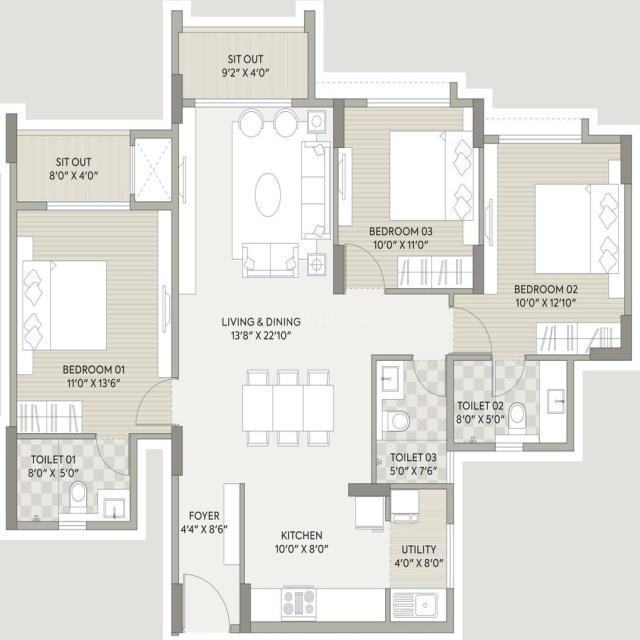Bedroom: (478, 138, 631, 363), (334, 99, 486, 295)
Bedroom with Toilet: (6, 202, 174, 533)
Dining: (240, 368, 335, 447)
Kitchen: (244, 485, 390, 633)
Living: (172, 99, 346, 295)
Toilet: (6, 432, 139, 533), (444, 356, 569, 449), (372, 353, 453, 491)
Utility: (387, 483, 454, 631)
